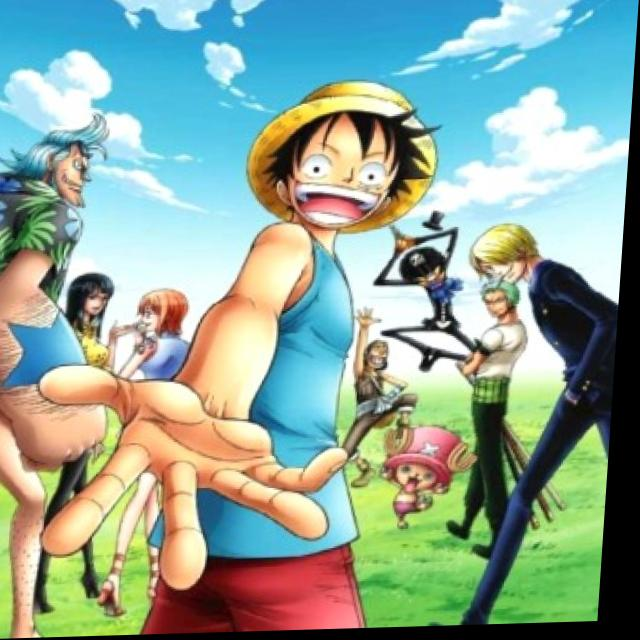Blook: (393, 225, 455, 304)
Chyopa: (378, 419, 478, 533)
Franky: (18, 109, 113, 224)
Luffy: (248, 73, 438, 245)
Nami: (136, 288, 193, 344)
NicoRobin: (67, 262, 122, 334)
Sangdi: (475, 217, 578, 293)
Usopp: (364, 337, 409, 383)
Zoro: (468, 283, 544, 328)
